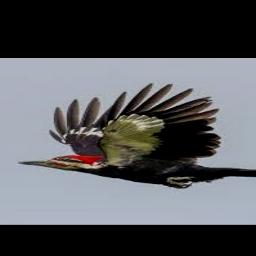Woodpecker: (15, 83, 256, 189)
